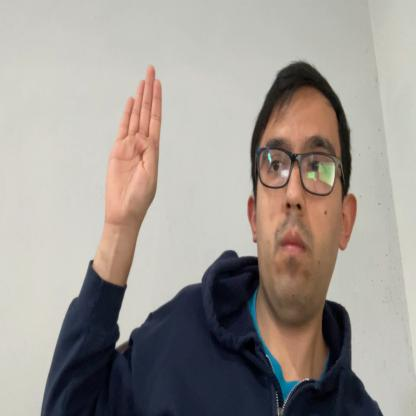B: (105, 64, 162, 238)
